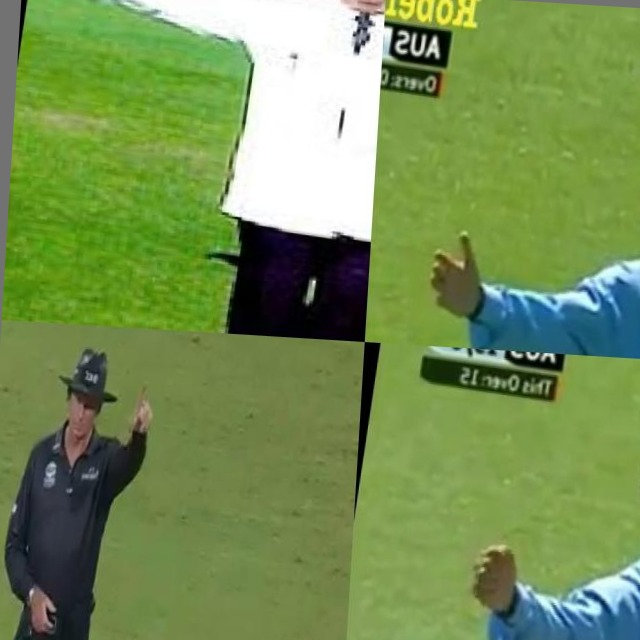No_Ball: (393, 68, 640, 361)
Out: (0, 327, 167, 640)
Wide: (2, 0, 386, 342), (432, 397, 640, 640)
